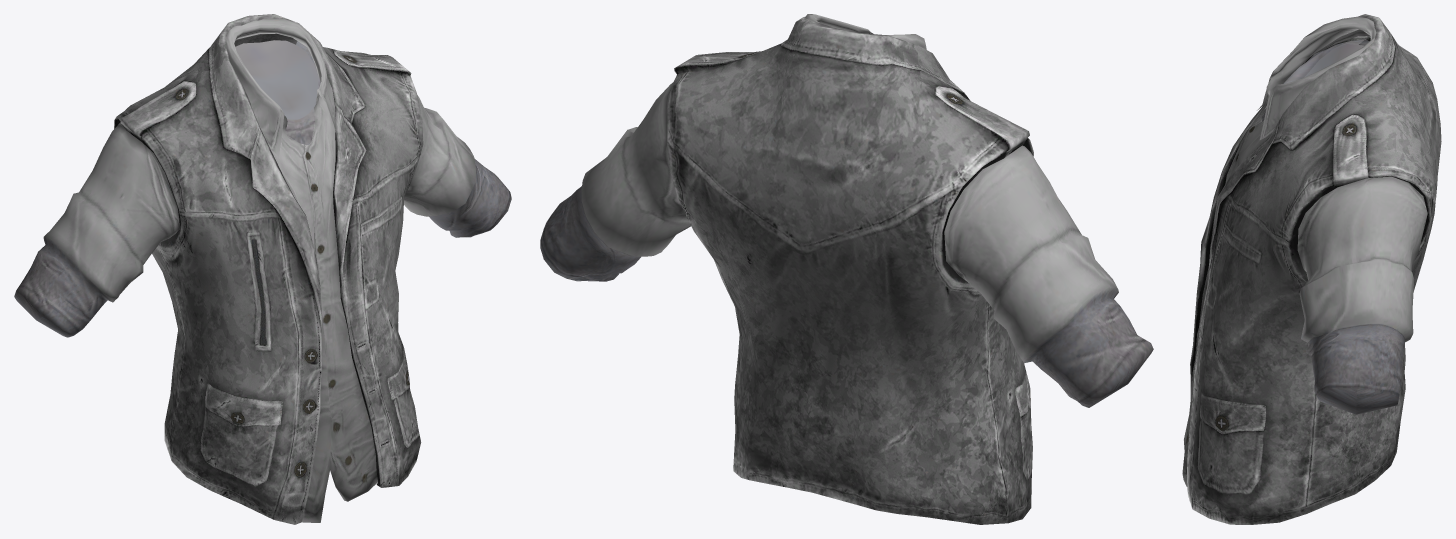
File: SurvivorMale_Chest_Shirt_FlannelVest_LOD0.glb
The picture shows the model from 3 angles, left to right: view 1: azimuth 30°, elevation 25°; view 2: azimuth 150°, elevation 25°; view 3: azimuth 270°, elevation 25°; orthographic projection. The views are drawn at different scales.
Parts seen in each view (by area): view 1: Hoodie; view 2: Hoodie; view 3: Hoodie.
Boxes of the visible parts, x1,y1,x2,y2 form: Hoodie: (14, 14, 511, 524); Hoodie: (540, 14, 1153, 524); Hoodie: (1182, 14, 1441, 524).
Size of the model in its own units: 0.8052 by 0.7 by 0.3532.
1 material, 1 textured.
